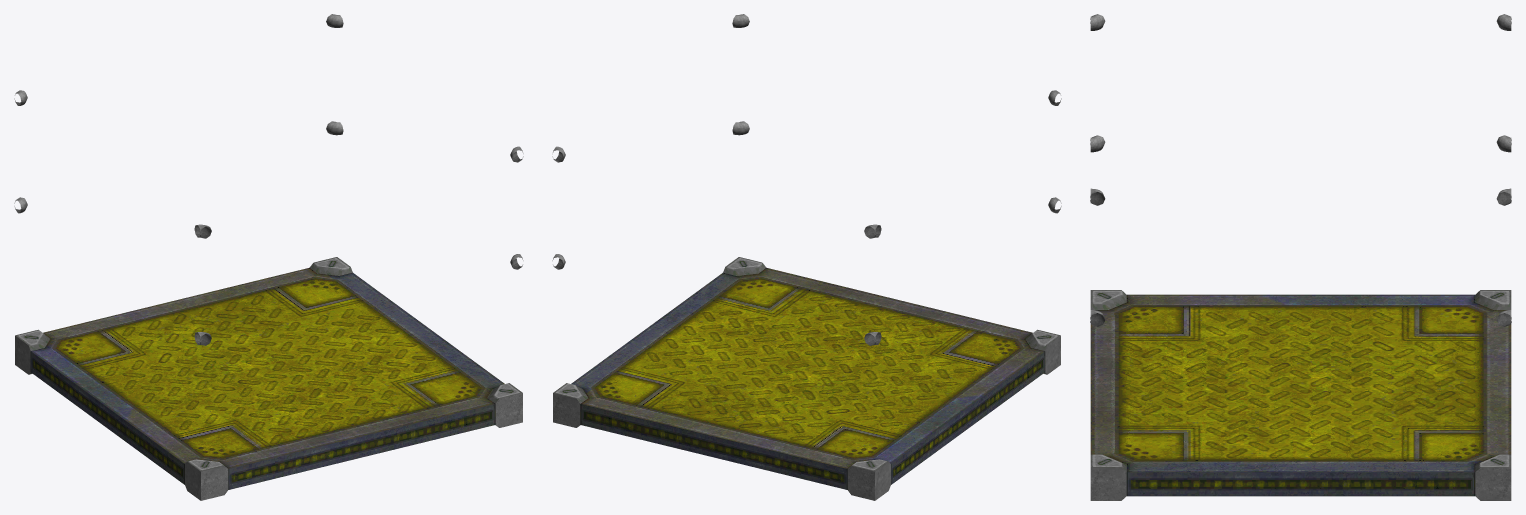
The model's file is catwalk_4way.dae.
3 views of the same model, side by side, from view 1: azimuth 30°, elevation 25°; view 2: azimuth 150°, elevation 25°; view 3: azimuth 270°, elevation 25° (orthographic). The views are drawn at different scales.
Visible parts, largest first — view 1: 4way; view 2: 4way; view 3: 4way.
Part boxes in pixels (x1,y1,x2,y2): 4way: [14, 14, 523, 500]; 4way: [552, 14, 1061, 500]; 4way: [1090, 14, 1511, 500].
Bounding box in the file's own units: 2.01 × 1.62 × 2.
